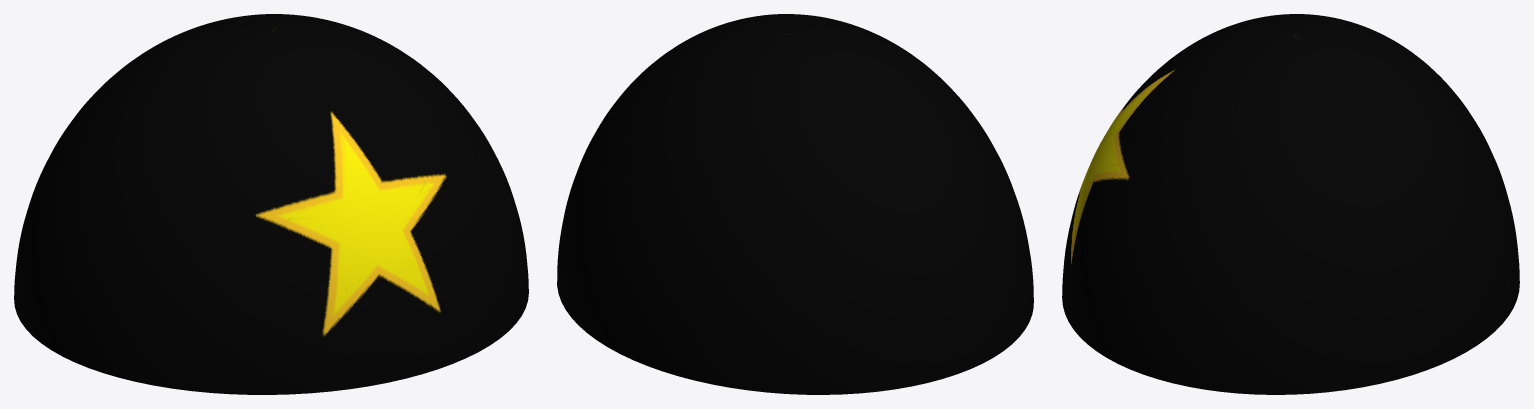
File: police_head.fbx
3 views of the same model, side by side, from view 1: azimuth 30°, elevation 25°; view 2: azimuth 150°, elevation 25°; view 3: azimuth 270°, elevation 25° (orthographic). The views are drawn at different scales.
Parts seen in each view (by area): view 1: node_id5; view 2: node_id5; view 3: node_id5.
Part boxes in pixels (box(x1,y1,x2,y2)): node_id5: box(14, 14, 528, 394); node_id5: box(557, 14, 1033, 394); node_id5: box(1062, 14, 1519, 394).
Bounding box in the file's own units: 4.42 × 2.52 × 4.09.
Materials: 1 (1 with a texture image).
